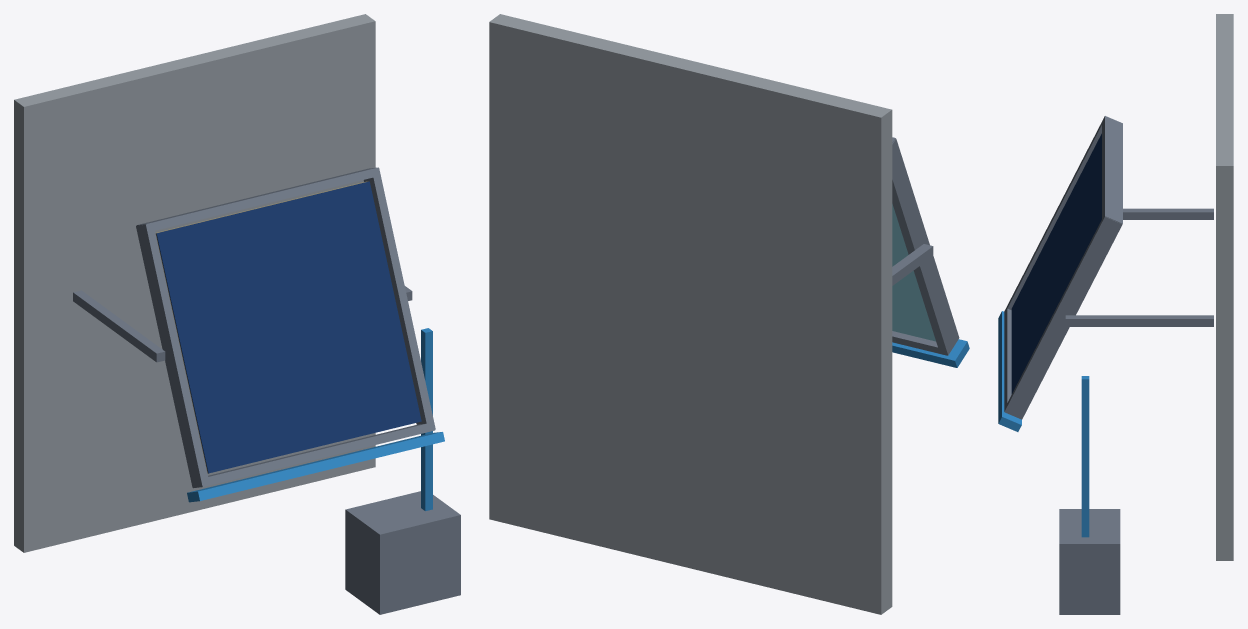
The model's file is facade-rain.obj.
3 renders of one model, left to right at view 1: azimuth 30°, elevation 25°; view 2: azimuth 150°, elevation 25°; view 3: azimuth 270°, elevation 25°, orthographic. The views are drawn at different scales.
Visible parts, largest first — view 1: facade_section, pv_face, tank_concept, side_frame, edge_frame, drain_channel_concept, standoff, drain_riser_concept; view 2: facade_section, side_frame, dew_face, drain_channel_concept, standoff; view 3: facade_section, pv_face, tank_concept, side_frame, edge_frame, standoff, drain_riser_concept, drain_channel_concept.
Part boxes in pixels (x1,y1,x2,y2): facade_section: (14, 14, 375, 552); pv_face: (156, 181, 421, 473); tank_concept: (345, 491, 460, 614); side_frame: (136, 168, 435, 487); edge_frame: (136, 167, 434, 488); drain_channel_concept: (187, 432, 444, 502); standoff: (73, 286, 412, 362); drain_riser_concept: (421, 328, 432, 511); facade_section: (489, 14, 892, 614); side_frame: (892, 138, 959, 355); dew_face: (892, 204, 935, 341); drain_channel_concept: (892, 339, 969, 367); standoff: (892, 244, 933, 285); facade_section: (1216, 14, 1233, 560); pv_face: (1011, 133, 1101, 394); tank_concept: (1059, 509, 1120, 614); side_frame: (1004, 116, 1122, 419); edge_frame: (1004, 116, 1122, 419); standoff: (1065, 208, 1213, 326); drain_riser_concept: (1081, 376, 1089, 537); drain_channel_concept: (998, 311, 1021, 431).
Size of the model in its own units: 1.65 by 2.28 by 1.08.
